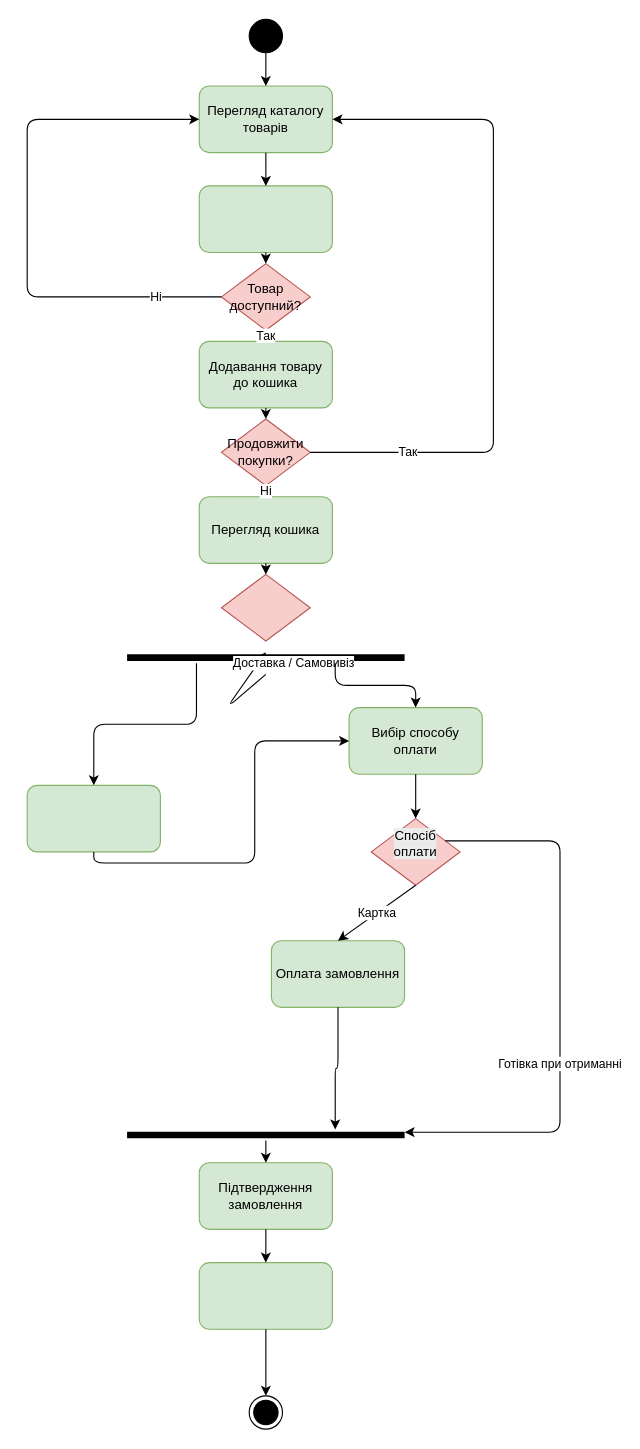
Some shapes in this 640 by 1449 pixel diagram are drawn without their labels. The centre of each missing label's shape, as x and y in pixels:
"Введення даних доставки" belongs at point 93,818.
"Вибір товару" belongs at point 265,219.
"Генерація підтвердження замовлення" belongs at point 265,1295.
"Доставка чи самовивіз?" belongs at point 265,607.
